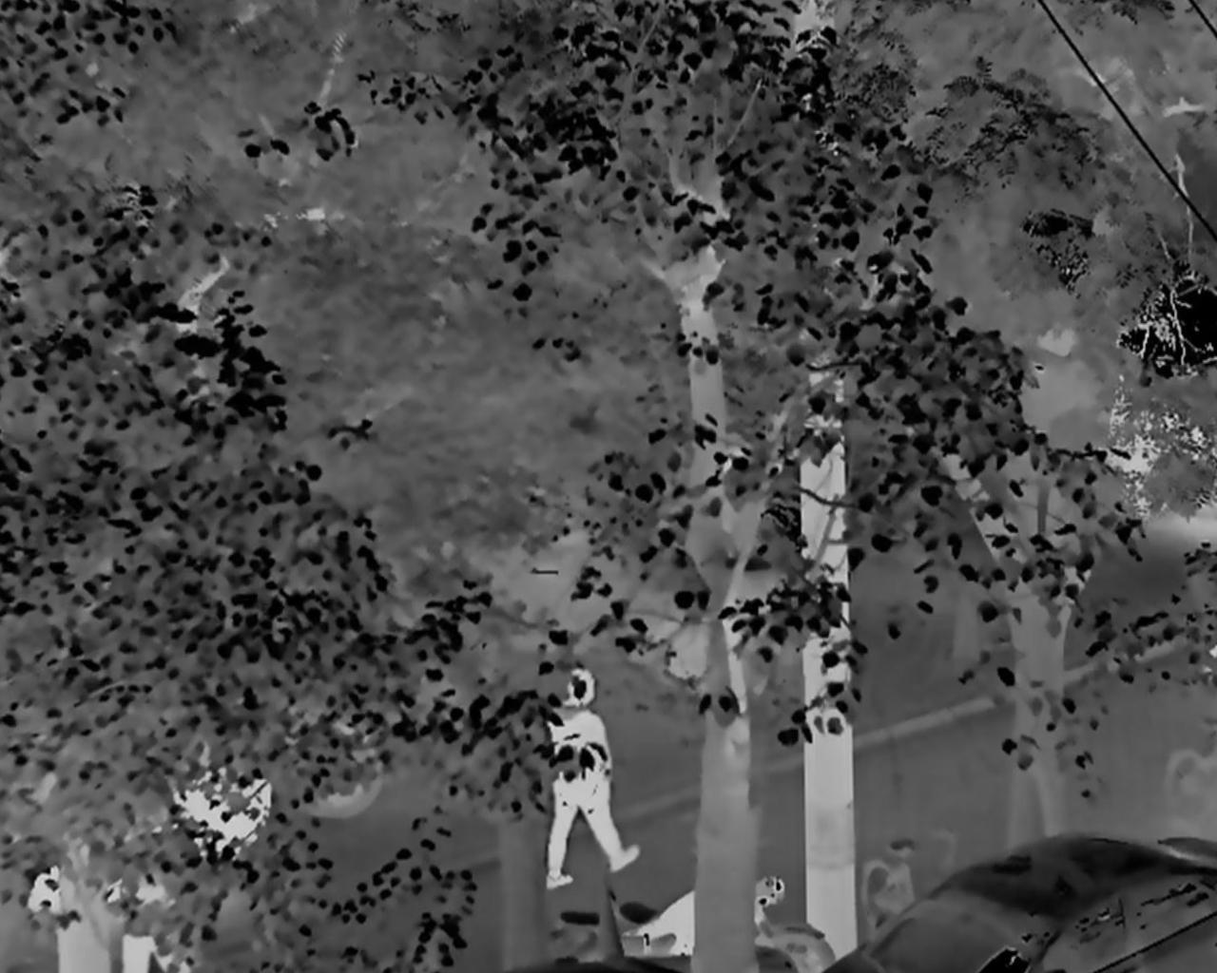person: (545, 666, 641, 889), (104, 858, 191, 973)
